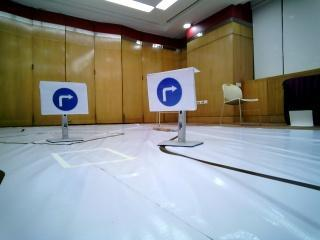right: (40, 80, 89, 117), (149, 73, 194, 111)
